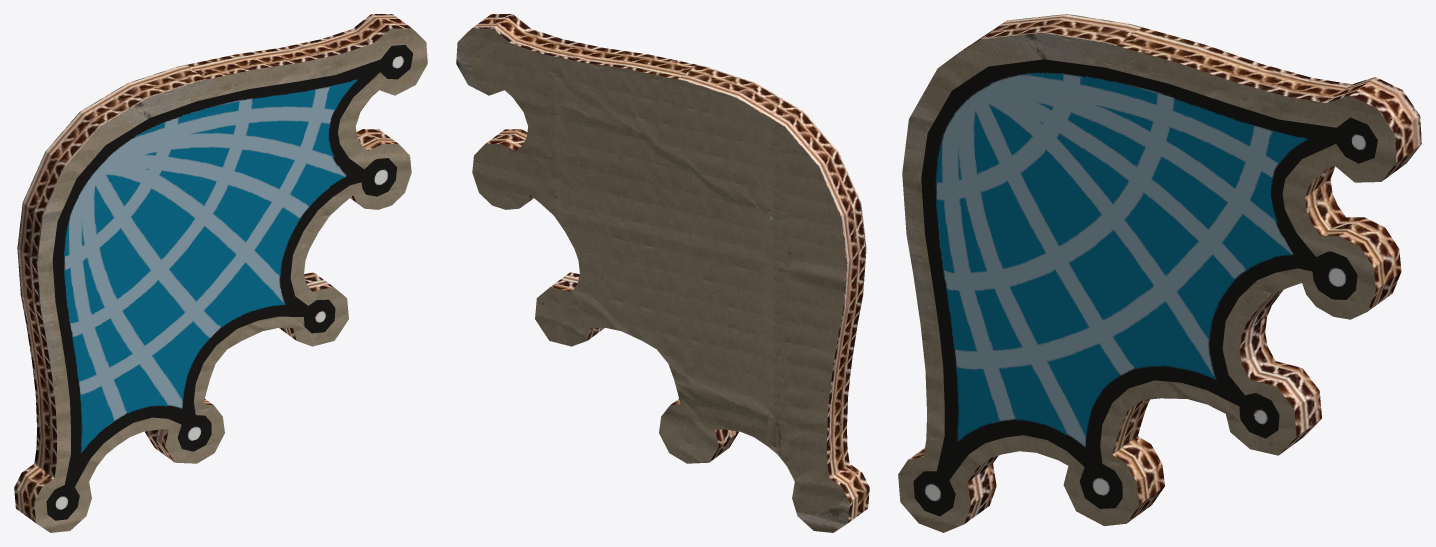
The model's file is net.fbx.
3 views of the same model, side by side, from view 1: azimuth 30°, elevation 25°; view 2: azimuth 150°, elevation 25°; view 3: azimuth 330°, elevation 25° (orthographic). The views are drawn at different scales.
Visible parts, largest first — view 1: net; view 2: net; view 3: net.
Boxes of the visible parts, <box> form: net: <box>14,14,427,532</box>; net: <box>456,14,869,532</box>; net: <box>898,14,1421,532</box>.
Size of the model in its own units: 90.33 by 92.95 by 8.
